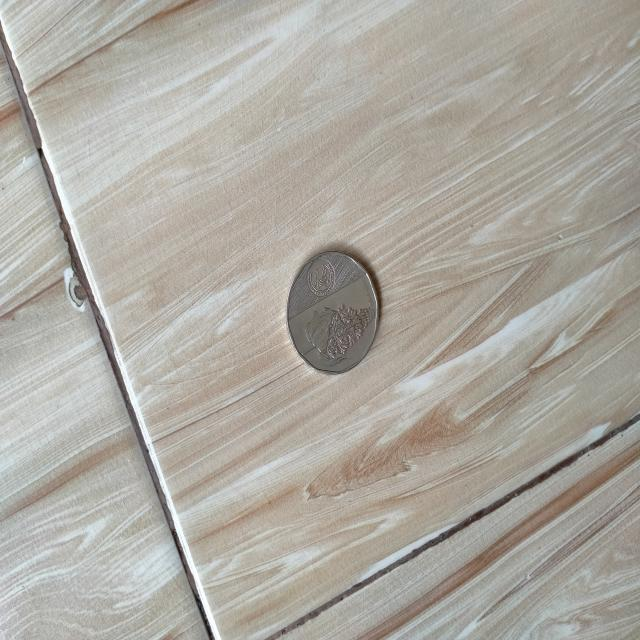10_New_Back: (297, 298, 382, 372)
